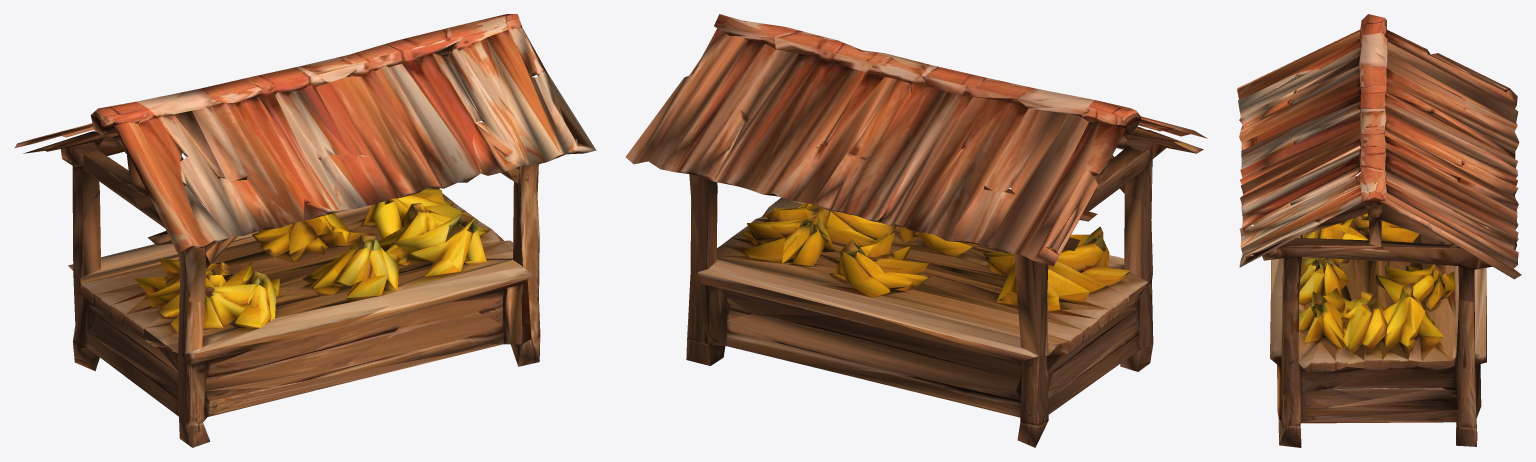
File: stall.glb
3 renders of one model, left to right at view 1: azimuth 30°, elevation 25°; view 2: azimuth 150°, elevation 25°; view 3: azimuth 270°, elevation 25°, orthographic. The views are drawn at different scales.
Parts seen in each view (by area): view 1: StallMesh; view 2: StallMesh; view 3: StallMesh.
Boxes of the visible parts, x1=… form: StallMesh: x1=14, y1=14, x2=596, y2=447; StallMesh: x1=625, y1=14, x2=1207, y2=447; StallMesh: x1=1237, y1=14, x2=1521, y2=447.
Bounding box in the file's own units: 5 × 3.3 × 3.19.
1 material, 1 textured.
